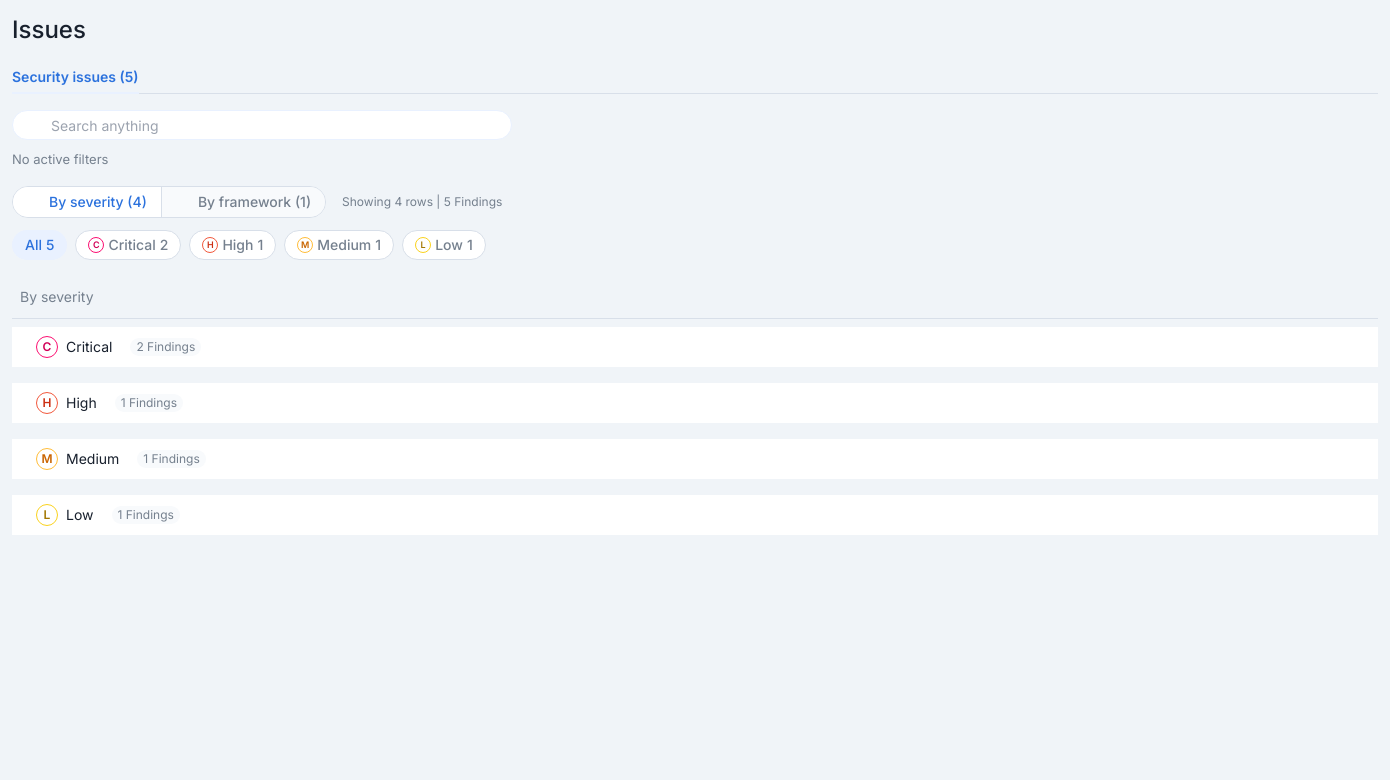
Test: IssuesTab — real title search › updates group counts and caption to reflect the filtered set
expect the text "Showing 4 rows | 5 Findings" is shown: met, box x1=342 y1=192 x2=502 y2=210
Type "Critical" into the field named "search issues by title". click: (275, 125)
box: x1=51 y1=114 x2=499 y2=136
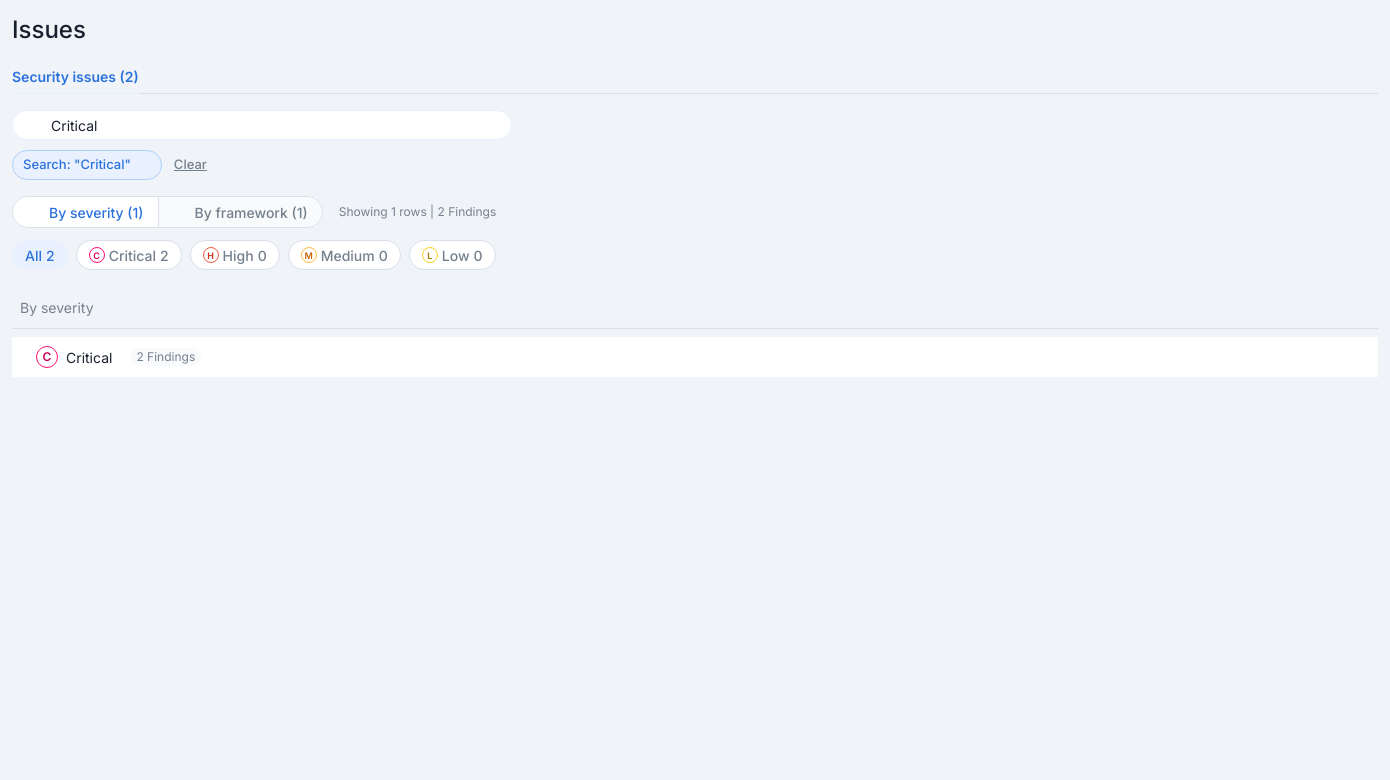
expect the button named "All2" is shown: met, box x1=12 y1=240 x2=68 y2=270
expect the text "Showing 1 rows | 2 Findings" is shown: met, box x1=339 y1=203 x2=496 y2=221
